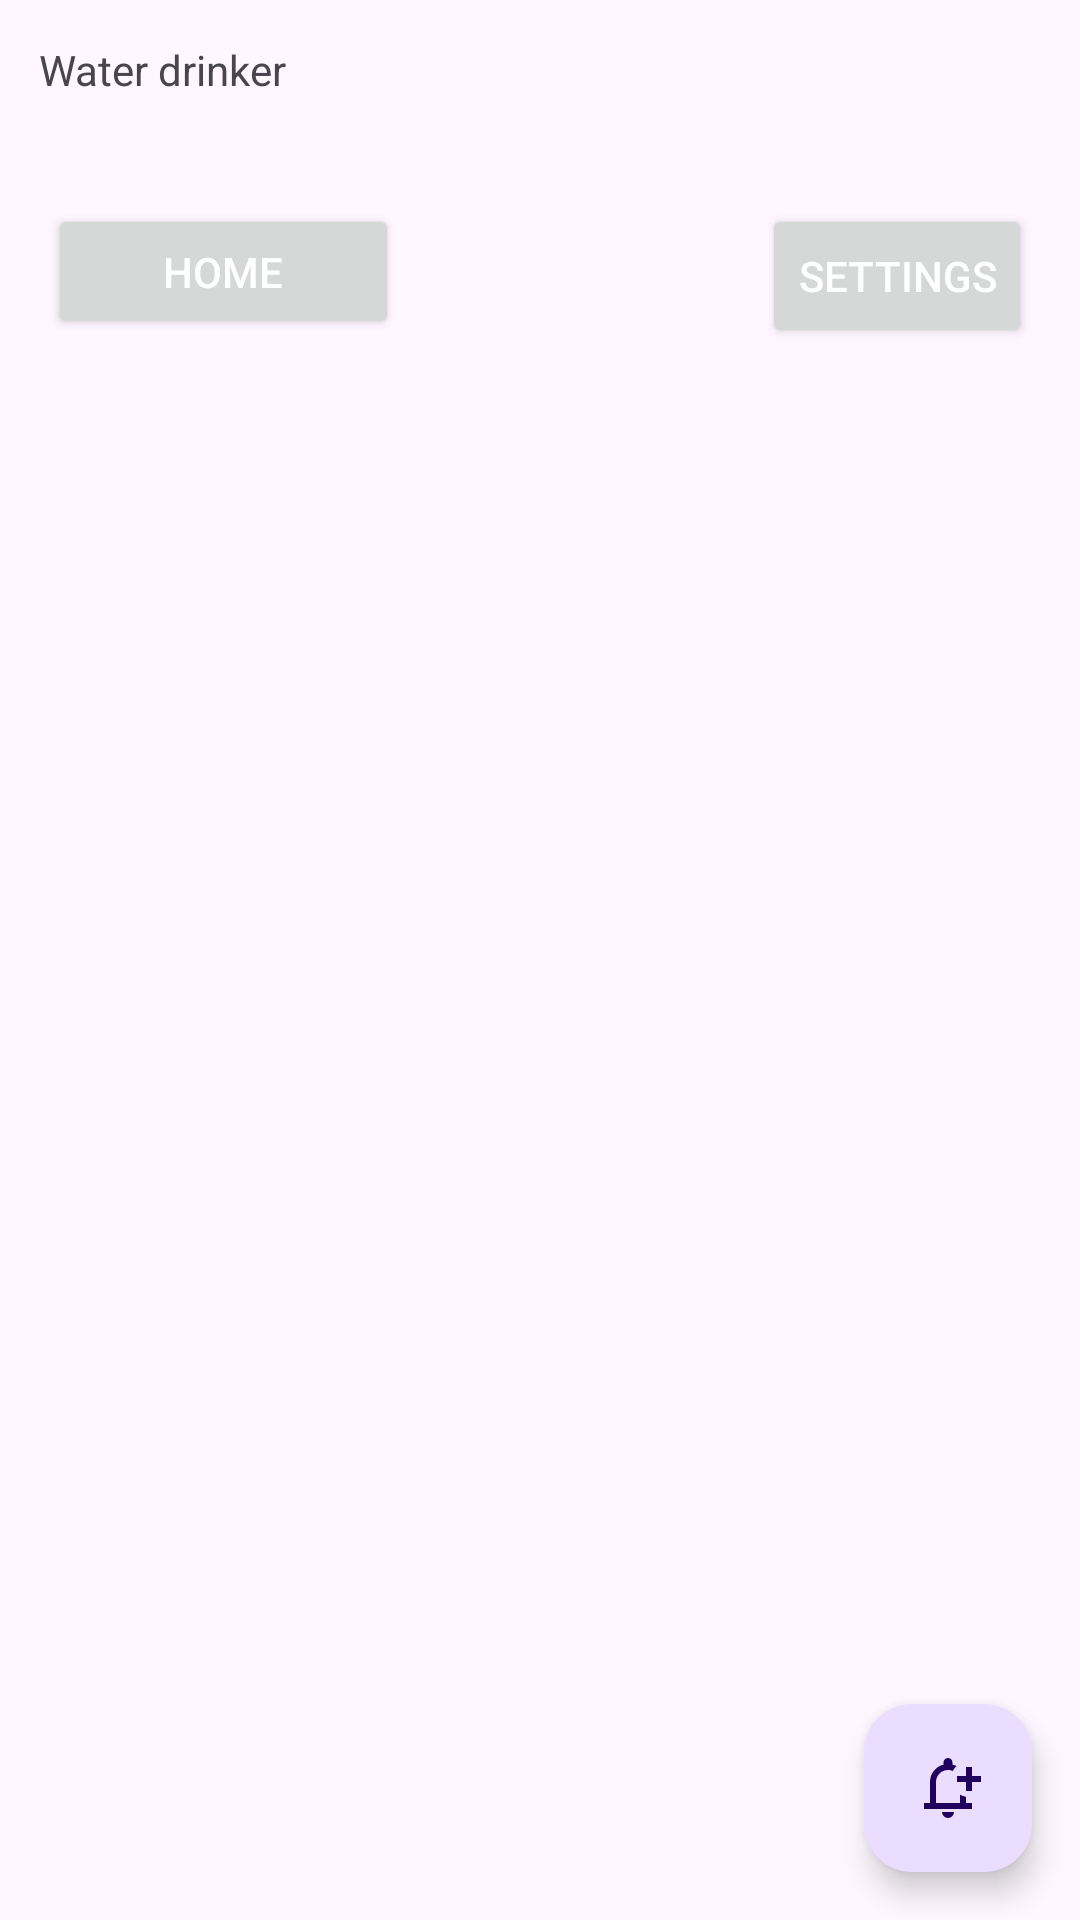

Point at icon controls on the screen. Image size 1080 x 1920, points as (x=x, y=y).
notification add: (x=948, y=1788)
